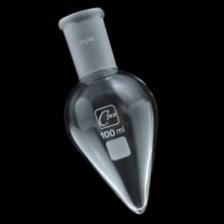Pear shaped flask: (38, 13, 167, 212)
